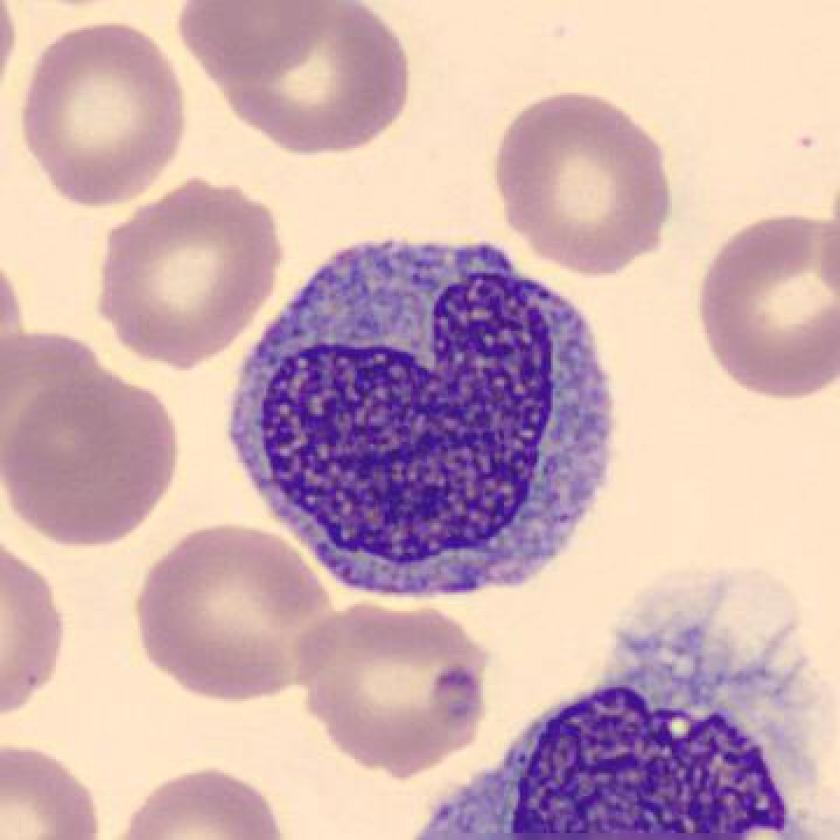monocyte: (216, 207, 640, 619)
